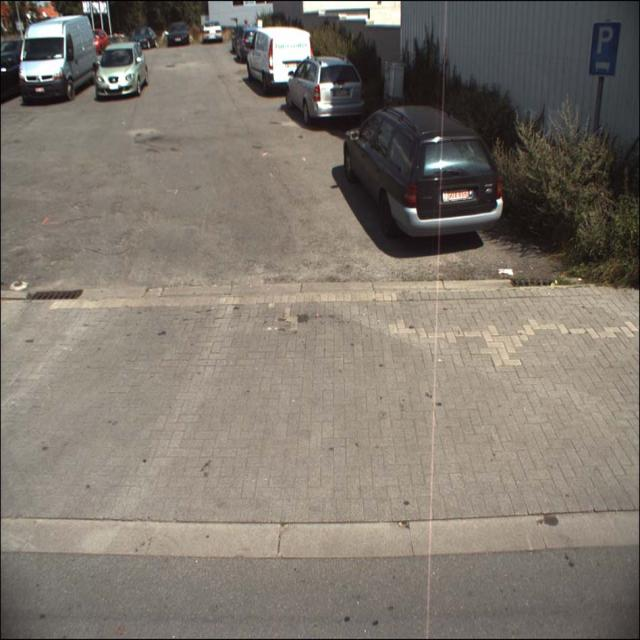park: (590, 21, 621, 58)
